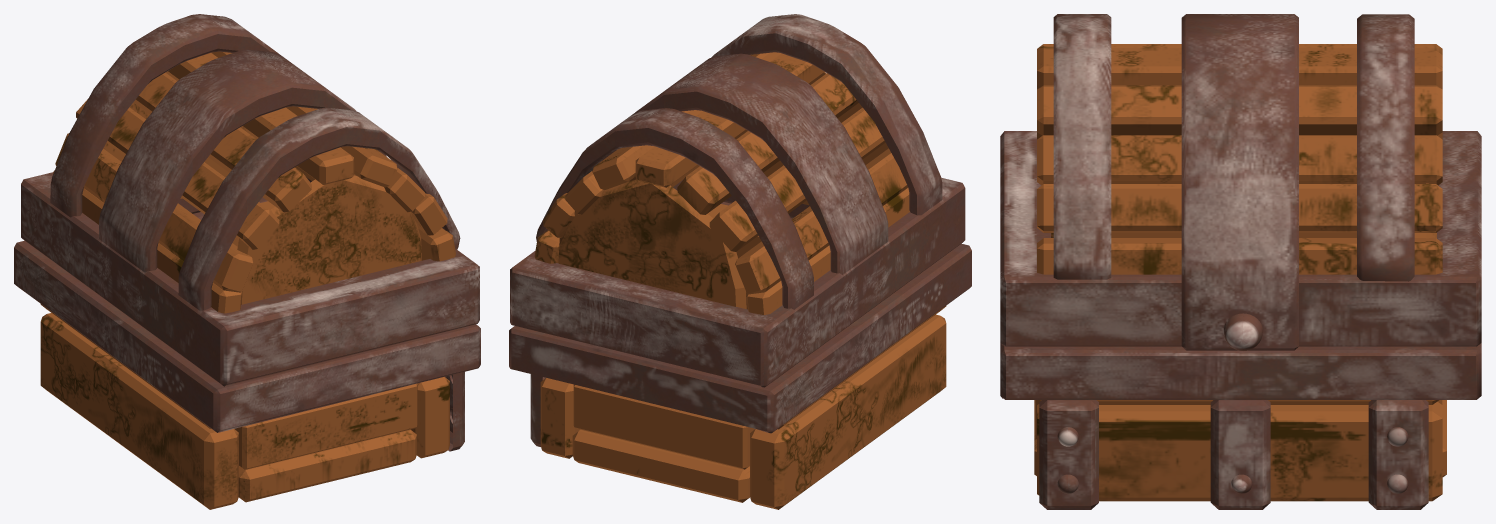
The model's file is cofre.fbx.
3 renders of one model, left to right at view 1: azimuth 30°, elevation 25°; view 2: azimuth 150°, elevation 25°; view 3: azimuth 270°, elevation 25°, orthographic. The views are drawn at different scales.
Parts seen in each view (by area): view 1: Box006; view 2: Box006; view 3: Box006.
Part boxes in pixels (x1,y1,x2,y2): Box006: [14, 14, 480, 509]; Box006: [509, 14, 971, 509]; Box006: [1000, 14, 1481, 509].
Bounding box in the file's own units: 126 × 145 × 153.
Materials: 2 (2 with a texture image).
